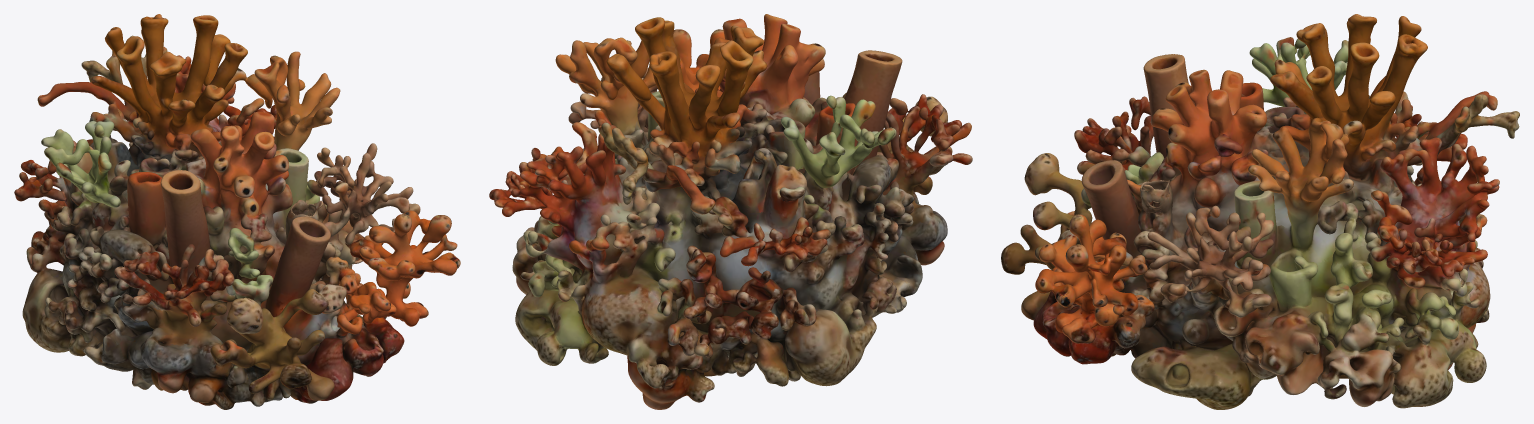
File: reefmass_b.glb
3 renders of one model, left to right at view 1: azimuth 30°, elevation 25°; view 2: azimuth 150°, elevation 25°; view 3: azimuth 270°, elevation 25°, orthographic. The views are drawn at different scales.
Visible parts, largest first — view 1: tripo_node_9442da72-9c15-41b5-add9-ef277f1ea154; view 2: tripo_node_9442da72-9c15-41b5-add9-ef277f1ea154; view 3: tripo_node_9442da72-9c15-41b5-add9-ef277f1ea154.
Part boxes in pixels (left/top/right/bottom): tripo_node_9442da72-9c15-41b5-add9-ef277f1ea154: left=14, top=14, right=460, bottom=409; tripo_node_9442da72-9c15-41b5-add9-ef277f1ea154: left=489, top=14, right=972, bottom=409; tripo_node_9442da72-9c15-41b5-add9-ef277f1ea154: left=1001, top=14, right=1519, bottom=409.
Size of the model in its own units: 0.7639 by 0.7397 by 0.9999.
1 material, 1 textured.
